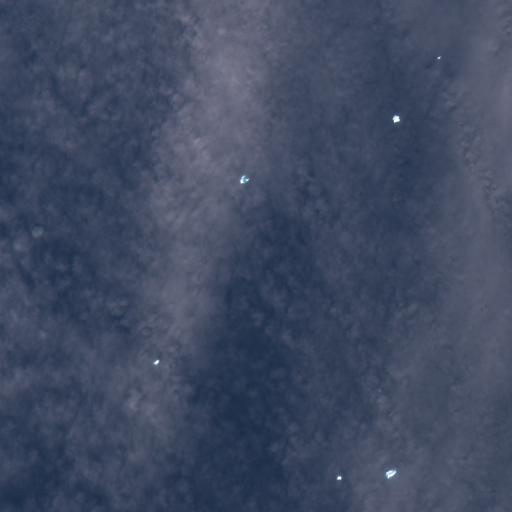Iceberg: (385, 469, 396, 478), (240, 175, 248, 183), (392, 115, 399, 122), (153, 360, 159, 364), (337, 475, 341, 479), (437, 56, 440, 58), (379, 390, 380, 391)
